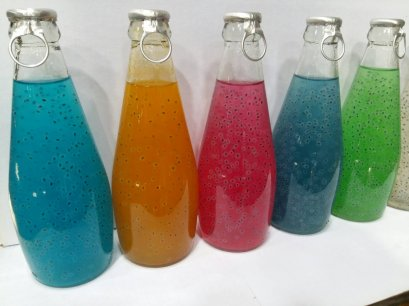glass_bottleww: (1, 6, 117, 296), (103, 5, 202, 298), (192, 1, 278, 288), (269, 10, 342, 270), (347, 10, 399, 279), (364, 5, 409, 253)
